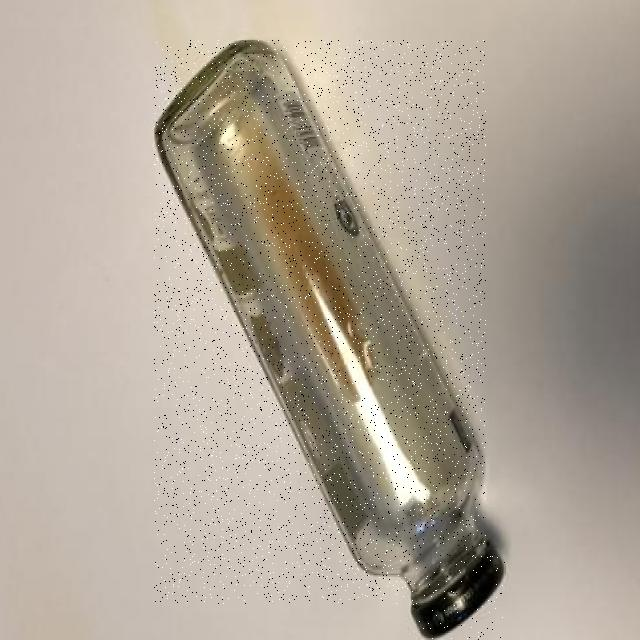glass: (154, 40, 486, 604)
metal: (411, 548, 505, 640)
